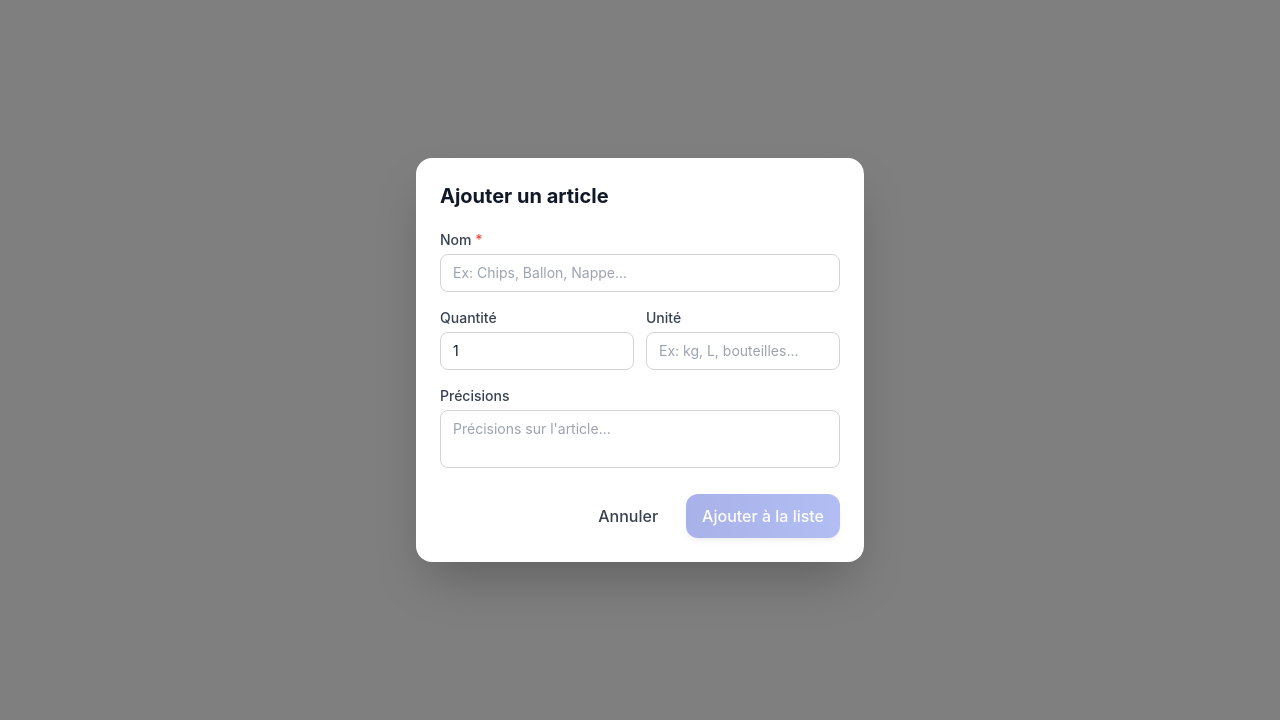
Test case: AddItemModal › shows an error message and does not close when the submission fails
The image size is (1280, 720).
Step 1. Type "Chips" into the field labelled "Nom *" → coordinates (640, 273), box 440,254 -> 840,292
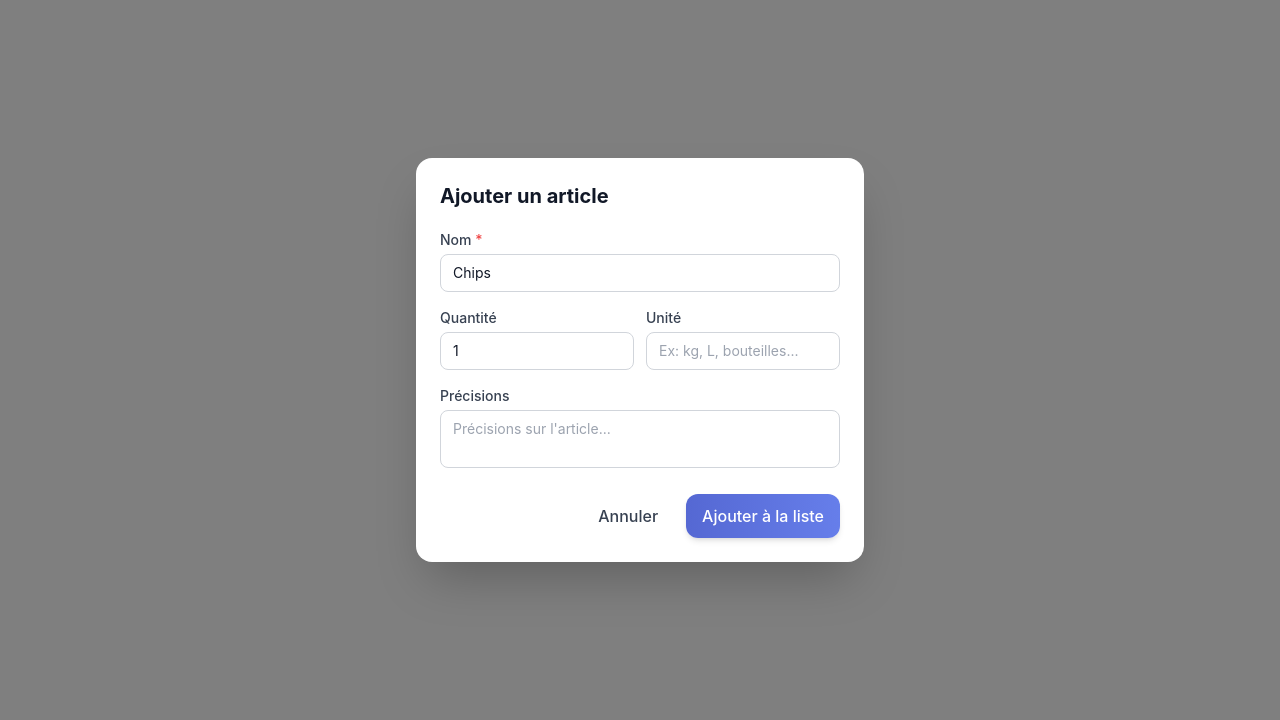
Step 2. Click the button "Ajouter à la liste" → coordinates (763, 516), box 686,494 -> 840,538
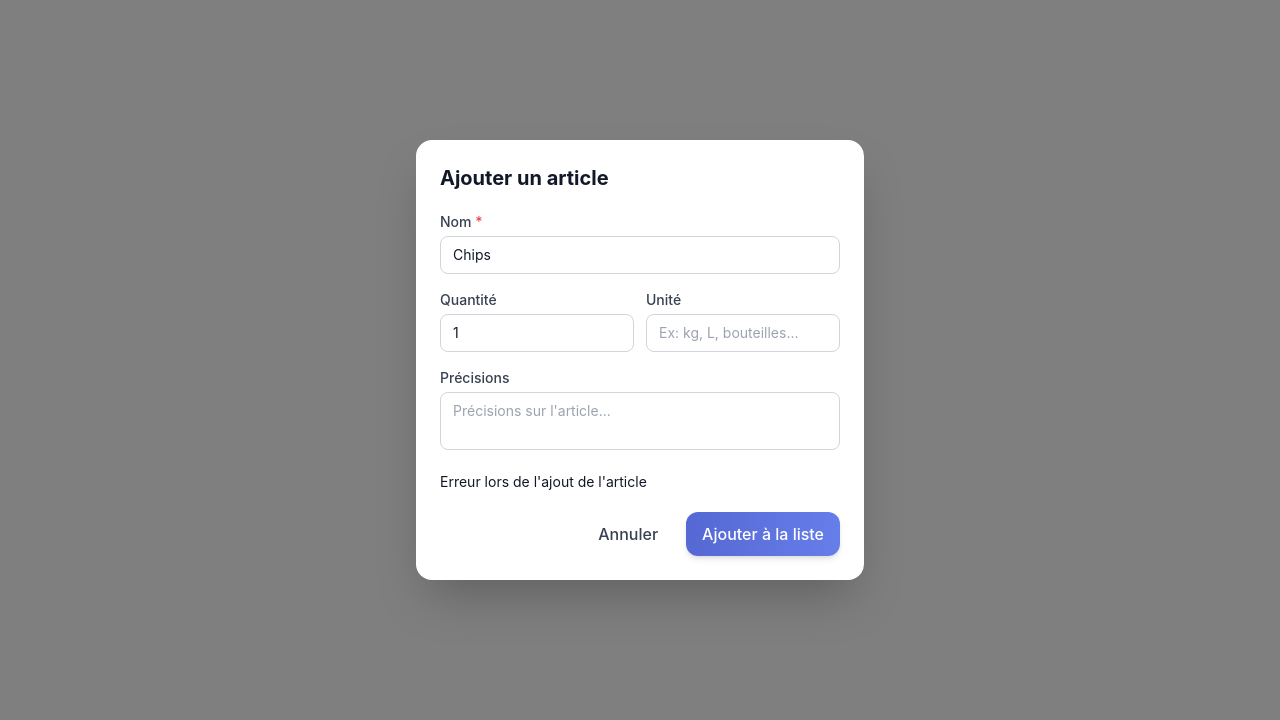
Expected: the text "Erreur lors de l'ajout de l'article" is shown, 440,473 -> 647,490
